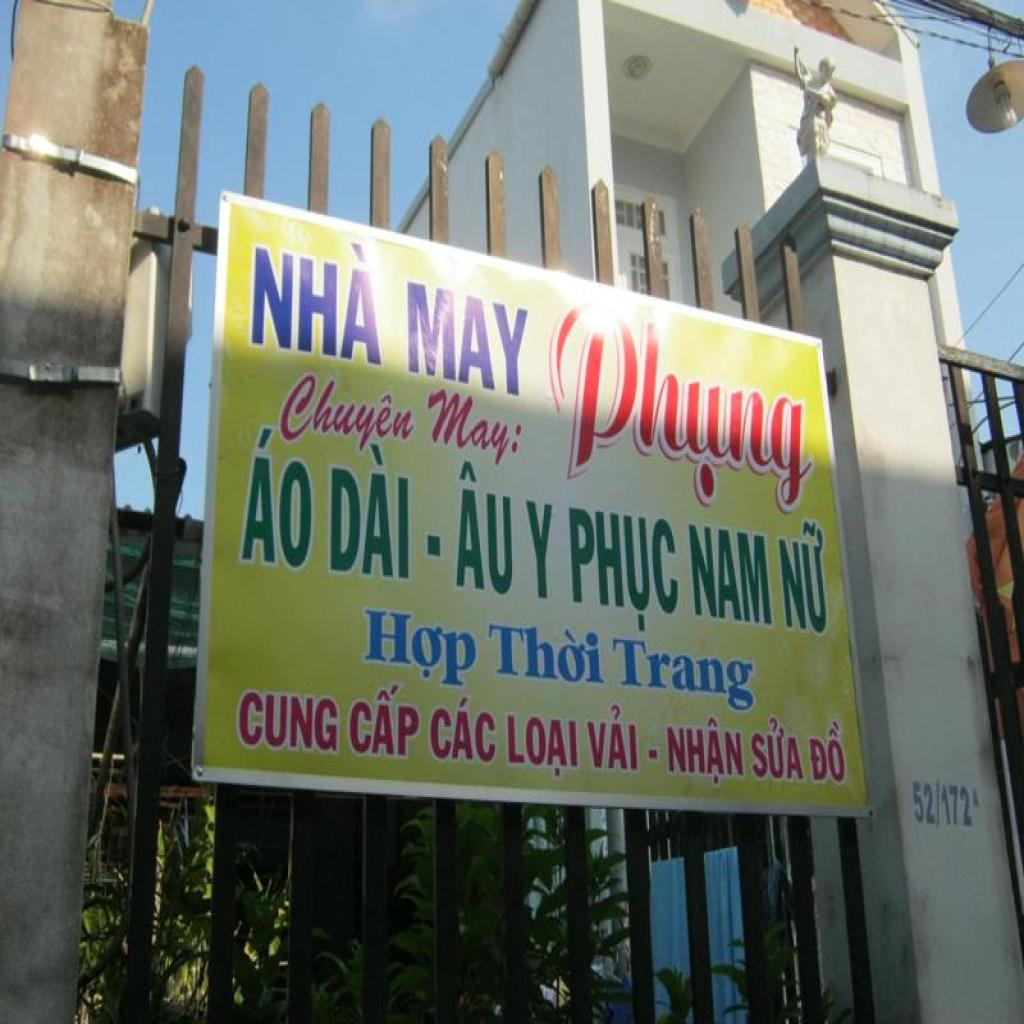text: (540, 276, 821, 522), (250, 218, 386, 374), (403, 275, 533, 399), (567, 504, 682, 636), (326, 438, 420, 590), (233, 422, 317, 574), (275, 368, 420, 456), (609, 636, 762, 712), (356, 607, 482, 693), (685, 519, 777, 630), (449, 457, 515, 599), (425, 387, 531, 473), (233, 684, 342, 760), (486, 620, 607, 686), (346, 676, 424, 763), (776, 515, 830, 640), (666, 712, 746, 790), (426, 691, 498, 768), (506, 712, 582, 780), (582, 702, 642, 776), (750, 712, 806, 786), (522, 495, 557, 604), (805, 720, 850, 789), (910, 776, 938, 824), (934, 777, 942, 826)
